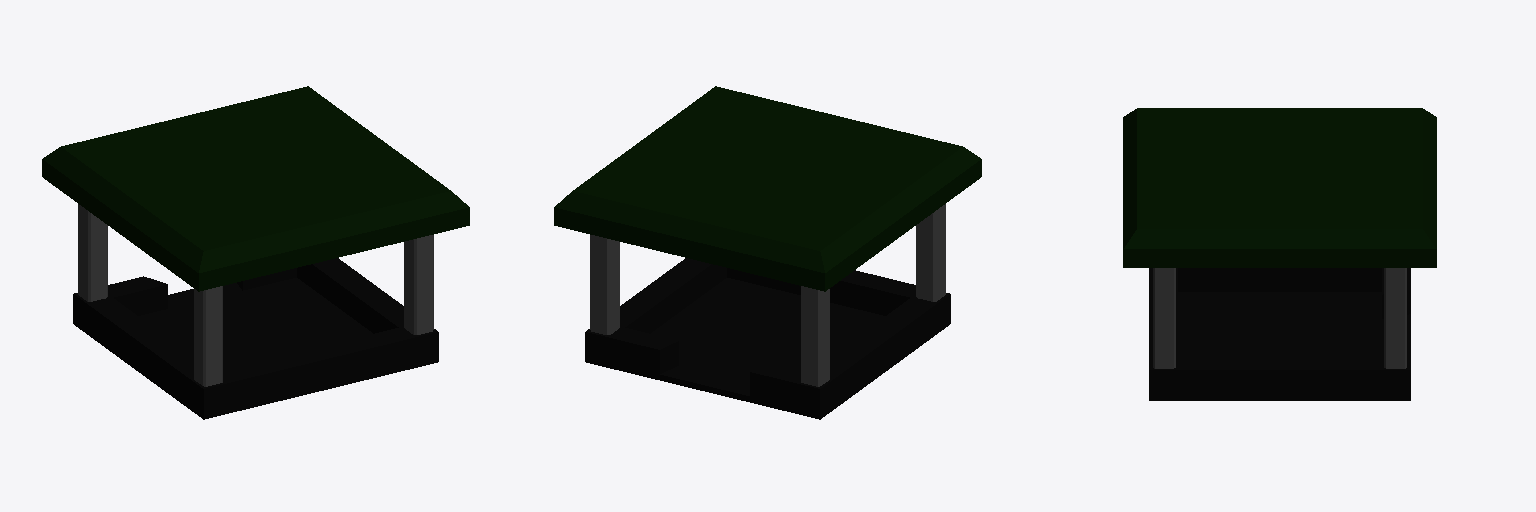
The model's file is GateKeeperStation.obj.
3 renders of one model, left to right at view 1: azimuth 30°, elevation 25°; view 2: azimuth 150°, elevation 25°; view 3: azimuth 270°, elevation 25°, orthographic.
Parts seen in each view (by area): view 1: GateKeeperStation_Cube.067; view 2: GateKeeperStation_Cube.067; view 3: GateKeeperStation_Cube.067.
Boxes of the visible parts, <box> form: GateKeeperStation_Cube.067: <box>42,86,469,419</box>; GateKeeperStation_Cube.067: <box>554,86,981,419</box>; GateKeeperStation_Cube.067: <box>1123,108,1436,400</box>.
Bounding box in the file's own units: 7.66 × 4.71 × 7.66.